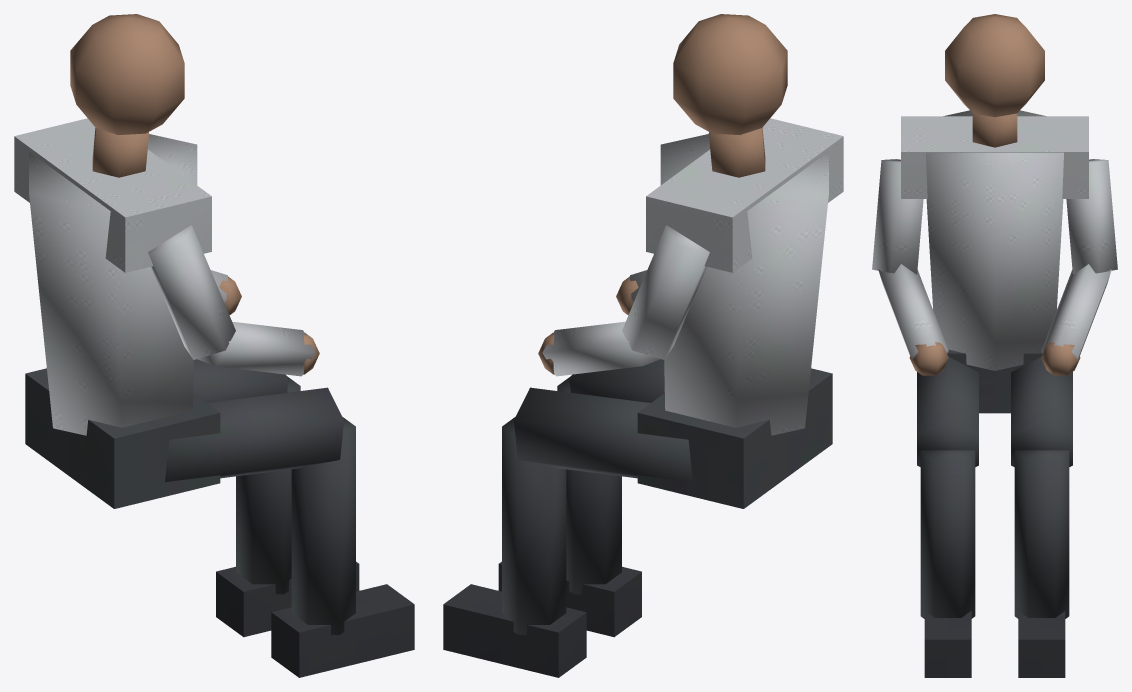
The model's file is crowd-seated-0_mobile.glb.
The picture shows the model from 3 angles, left to right: view 1: azimuth 30°, elevation 25°; view 2: azimuth 150°, elevation 25°; view 3: azimuth 270°, elevation 25°; orthographic projection. The views are drawn at different scales.
Visible parts, largest first — view 1: clothing, dark-steel, skin, rubber; view 2: clothing, dark-steel, skin, rubber; view 3: clothing, dark-steel, skin, rubber.
Boxes of the visible parts, box(x1,y1,x2,y2) form: clothing: box(14, 118, 315, 435); dark-steel: box(25, 359, 355, 634); skin: box(70, 14, 319, 374); rubber: box(216, 561, 414, 677); clothing: box(542, 118, 843, 435); dark-steel: box(502, 359, 832, 634); skin: box(538, 14, 787, 374); rubber: box(443, 561, 641, 677); clothing: box(872, 110, 1117, 370); dark-steel: box(917, 349, 1072, 618); skin: box(909, 14, 1080, 375); rubber: box(924, 611, 1065, 677).
Size of the model in its own units: 0.7148 by 1.31 by 0.5233.
4 materials, 3 textured.
